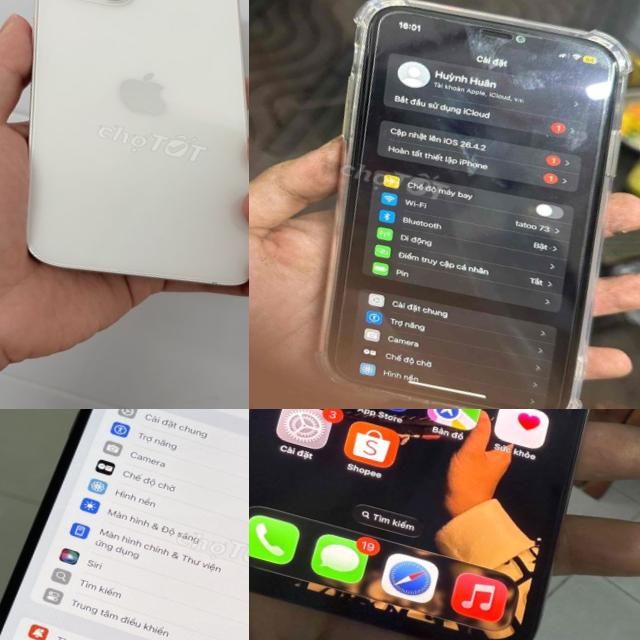gen_11: (252, 0, 640, 409), (249, 409, 640, 640)
gen_12_13: (0, 0, 249, 322)
gen_x_xs: (0, 409, 249, 640)
